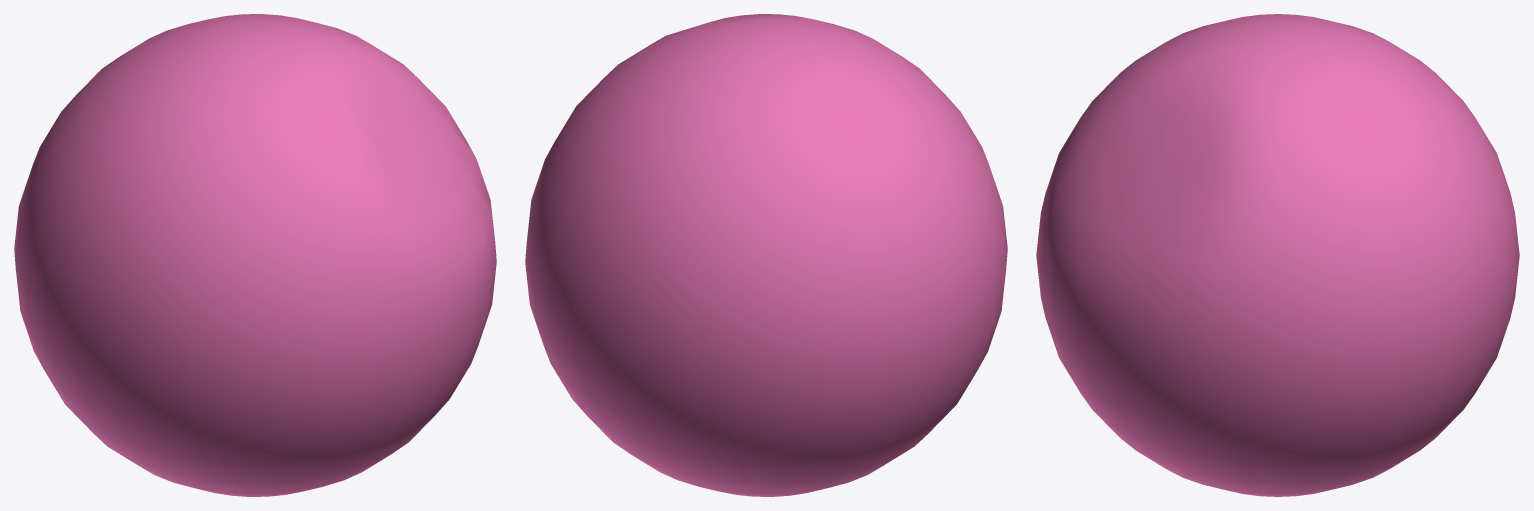
Rendered from gum-shield.glb.
3 renders of one model, left to right at view 1: azimuth 30°, elevation 25°; view 2: azimuth 150°, elevation 25°; view 3: azimuth 270°, elevation 25°, orthographic.
Parts seen in each view (by area): view 1: Gum Ball | Soft Pink; view 2: Gum Ball | Soft Pink; view 3: Gum Ball | Soft Pink.
Boxes of the visible parts, bbox=[...] form: Gum Ball | Soft Pink: bbox=[14, 14, 496, 496]; Gum Ball | Soft Pink: bbox=[525, 14, 1007, 496]; Gum Ball | Soft Pink: bbox=[1036, 14, 1519, 496].
Bounding box in the file's own units: 1 × 1 × 1.
